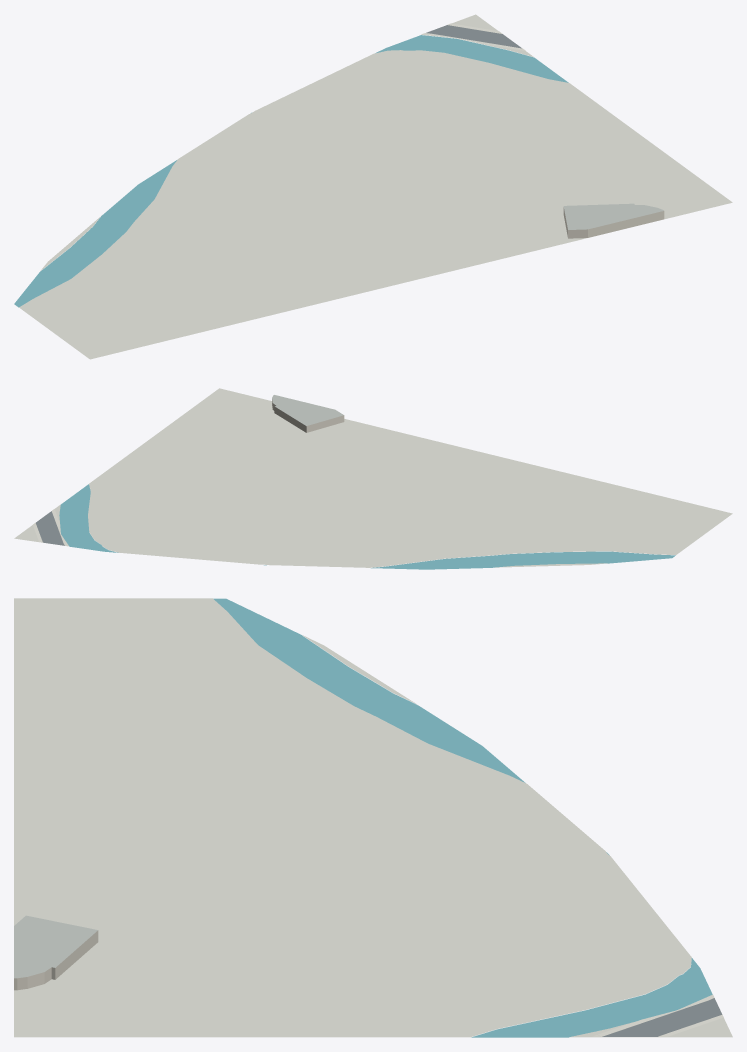
3 renders of one model, top to bottom at view 1: azimuth 30°, elevation 25°; view 2: azimuth 150°, elevation 25°; view 3: azimuth 270°, elevation 25°, orthographic. The views are drawn at different scales.
Parts seen in each view (by area): view 1: city; view 2: city; view 3: city.
Boxes of the visible parts, <box> form: city: <box>14,14,732,359</box>; city: <box>14,388,732,569</box>; city: <box>14,598,732,1037</box>.
Bounding box in the file's own units: 500 × 6.58 × 346.
